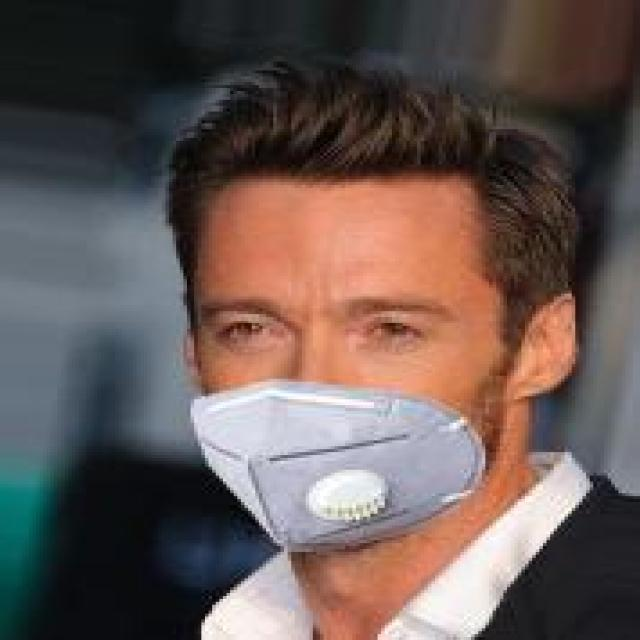mask: (165, 38, 600, 567)
